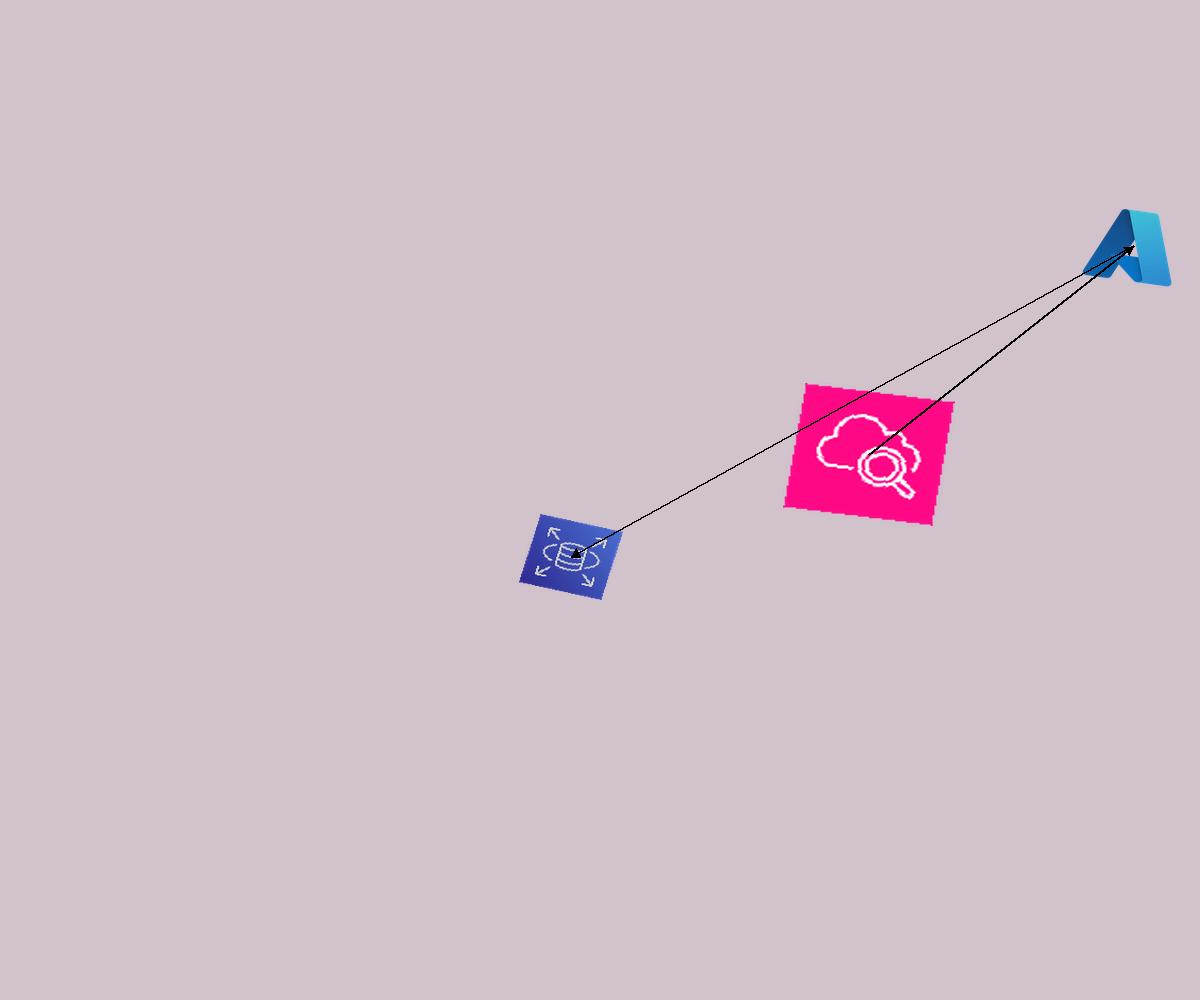AWS-CloudWatch: (783, 383, 955, 526)
AWS-RDS: (519, 514, 623, 600)
Azure_services: (1077, 199, 1190, 293)
